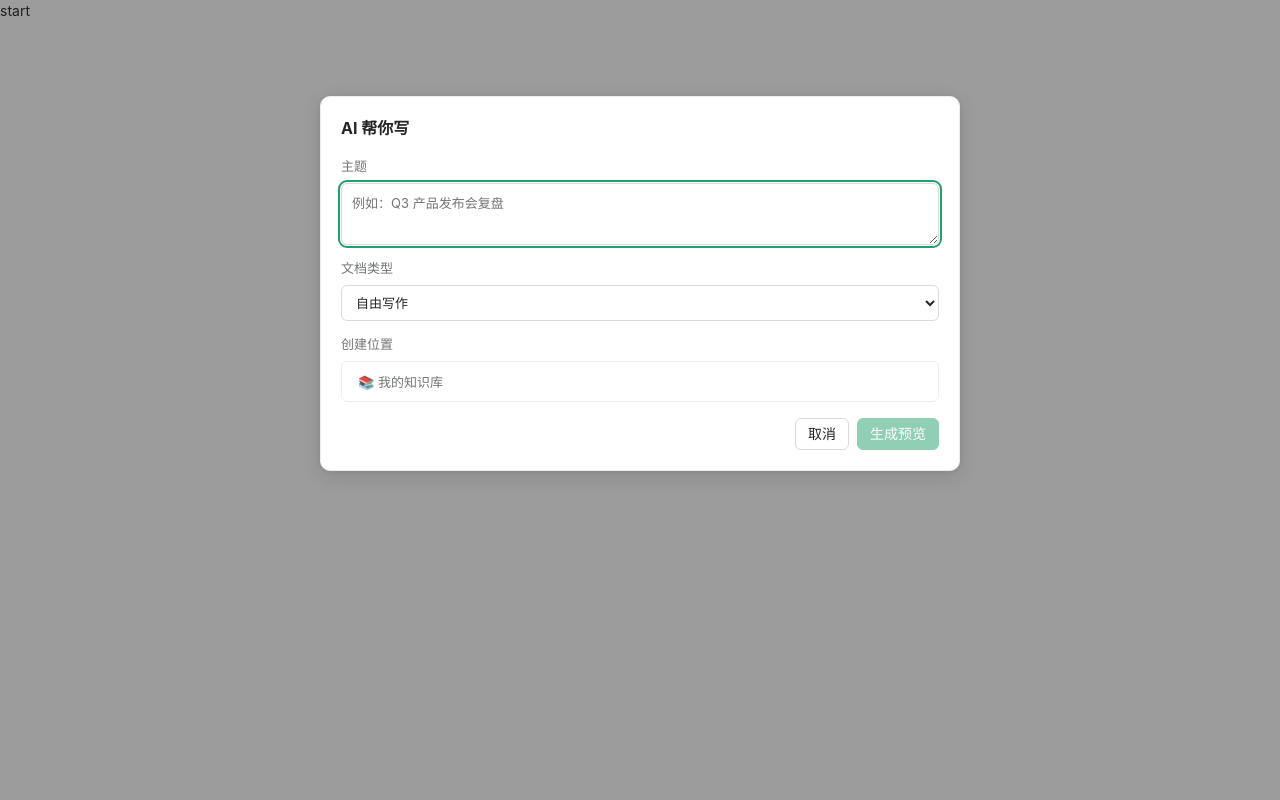
Scenario: AIDraftModal › 生成失败时显示错误且不创建文档
This screenshot has width=1280, height=800.
Type "失败案例" into the text box named "文档主题" at coordinates (640, 214), box [341,183,939,245]
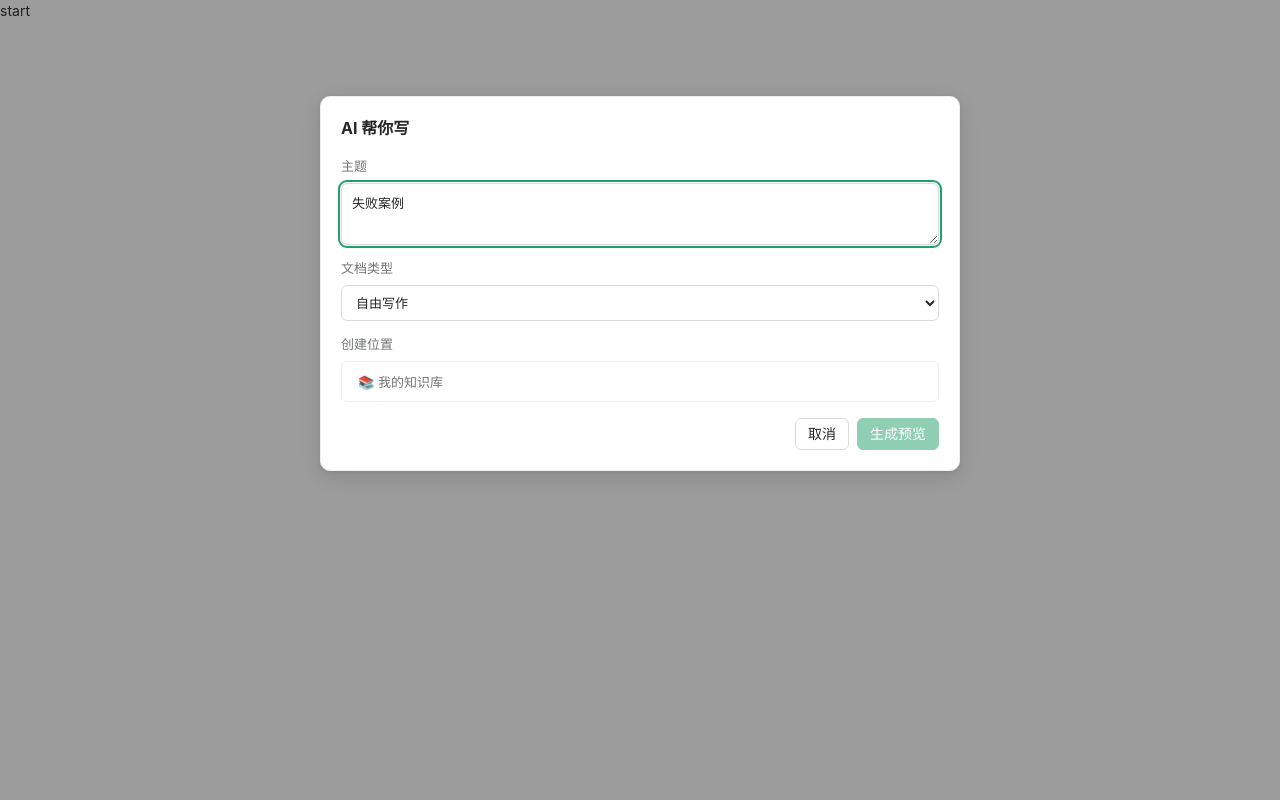
Click the menu item "📚 我的知识库" at coordinates (400, 382), box [346,366,934,397]
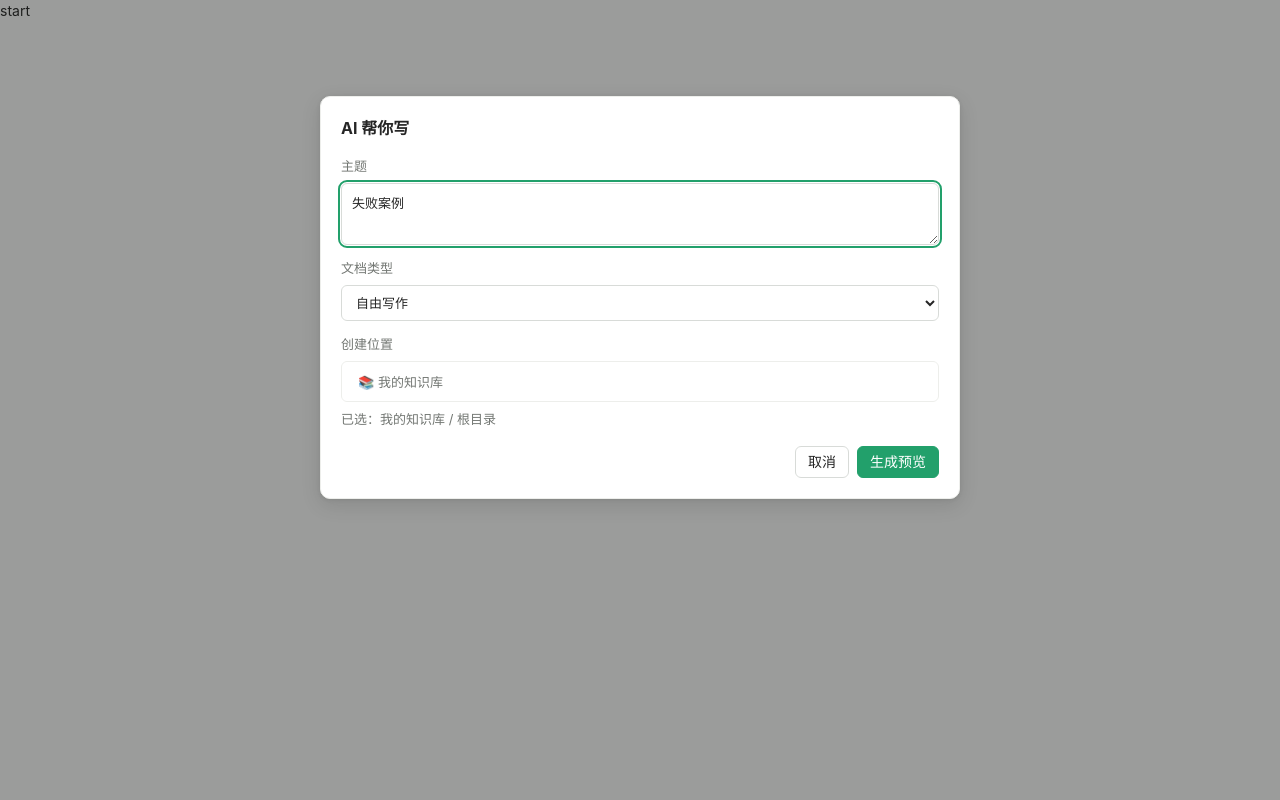
Click the button "生成预览" at coordinates (898, 462), box [857,446,939,478]
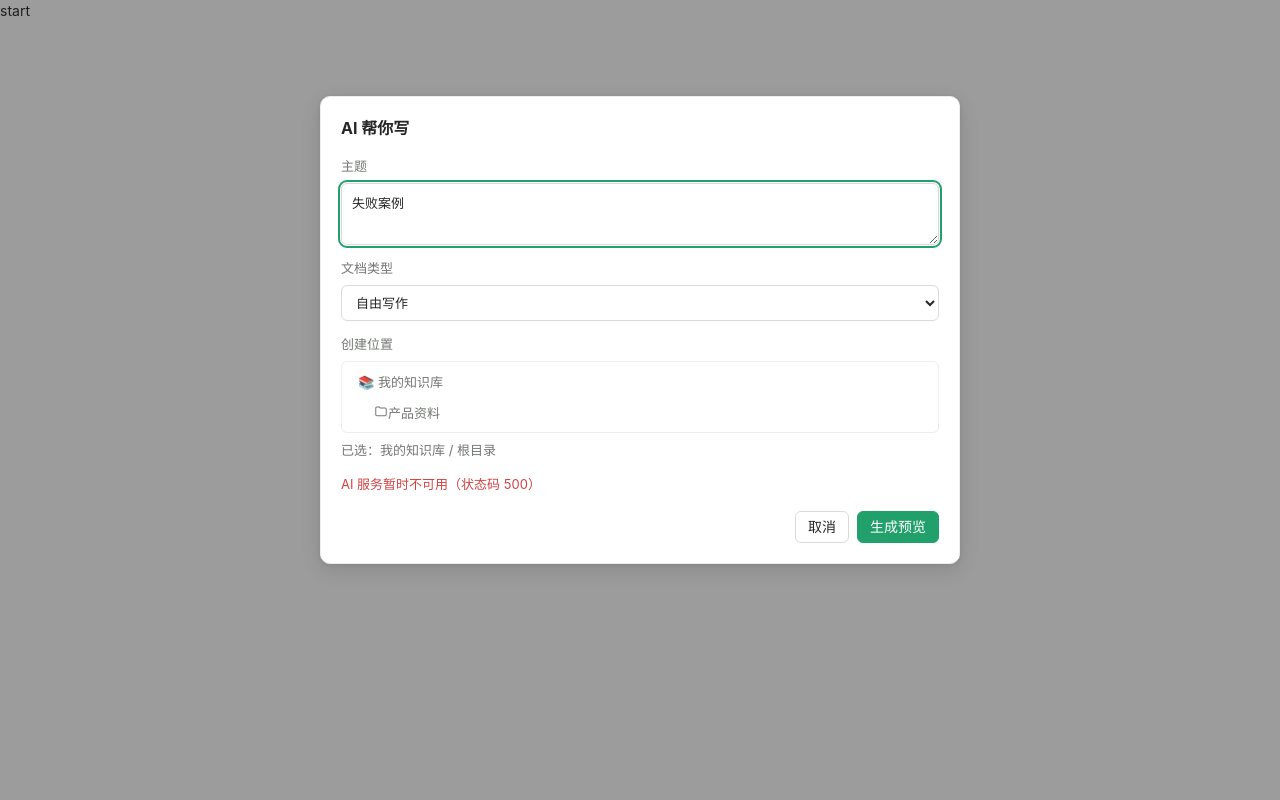
Expected: the message reads "AI 服务暂时不可用（状态码 500）", [341,476,541,492]
